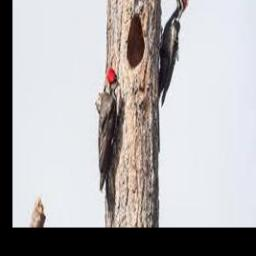Woodpecker: (98, 67, 121, 227), (158, 0, 189, 105)
